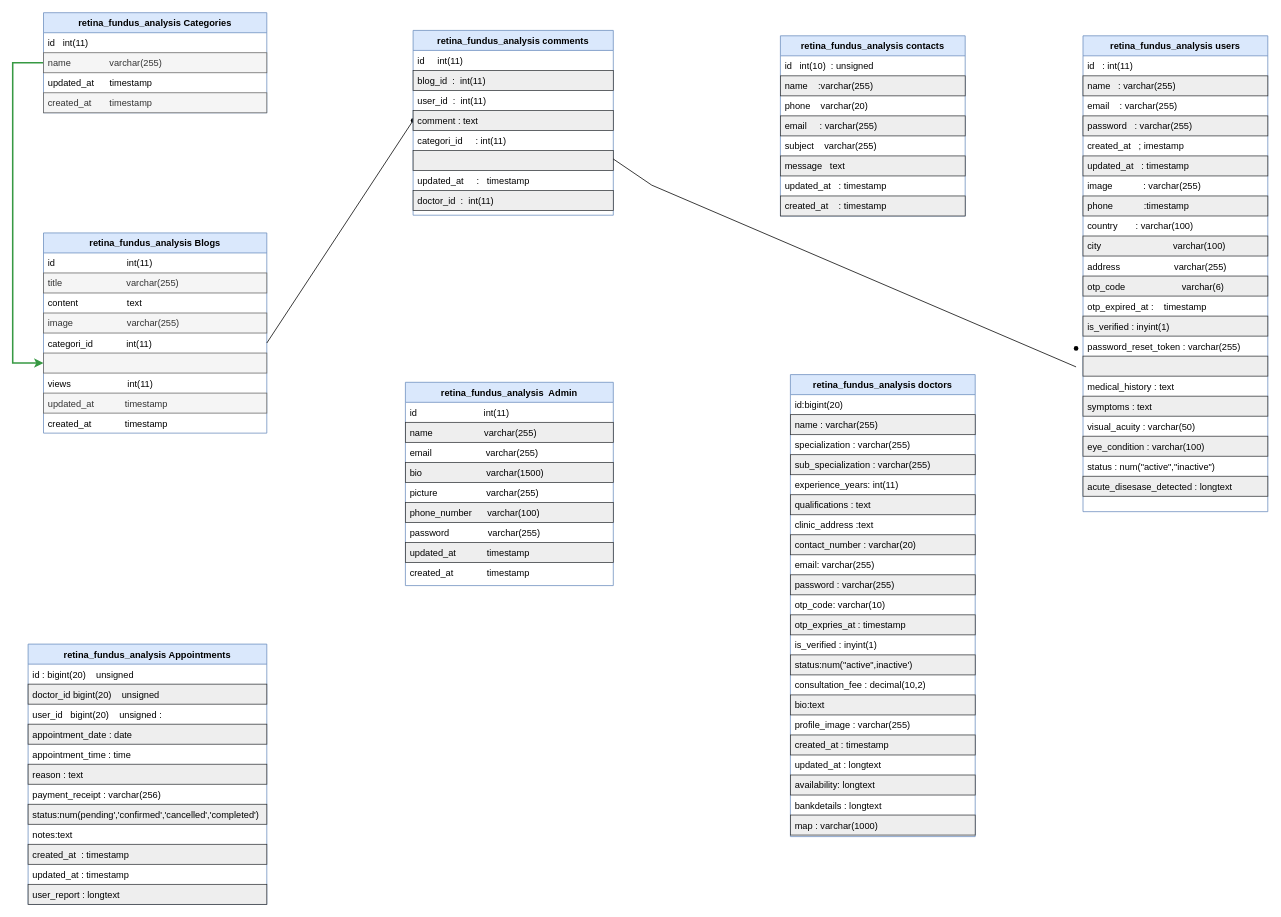
The diagram is 1281 pixels wide and 917 high, and some of its shapes have lost their labels. The shapes that lost their labels are listed below. From the top down, each one's centre as x and y in pixels, then its label:
At (x=512, y=160): "created_by : bigint(20)".
At (x=155, y=362): "created_by bigint(20)".
At (x=1175, y=365): "password_reset_expires_at : datetime".
